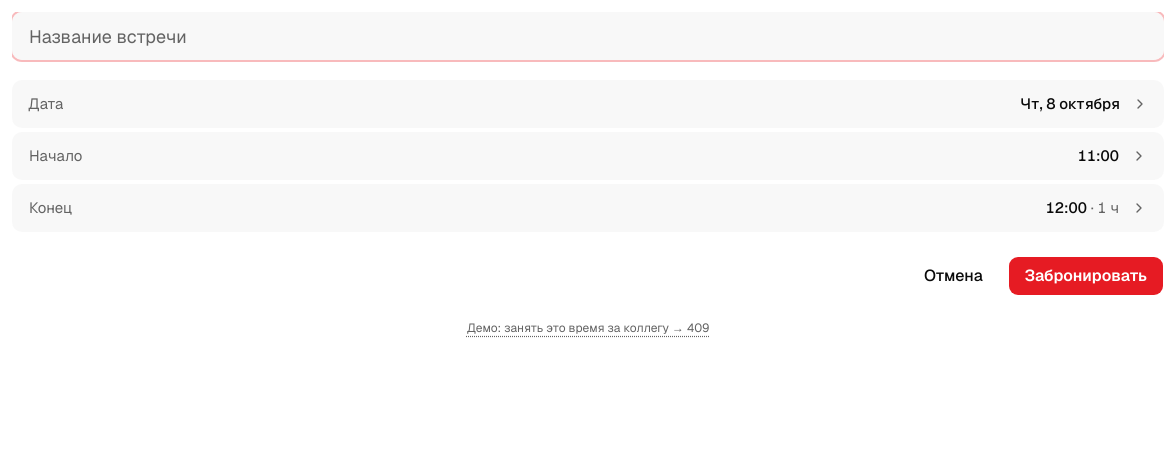
QuickBookingForm › keeps the title and suggests a free slot on 409
Expected: the button "Забронировать" is enabled, [1008,256,1164,296]
In the field labelled "Название": (588, 36) [12,12,1164,60], type "Ревью"
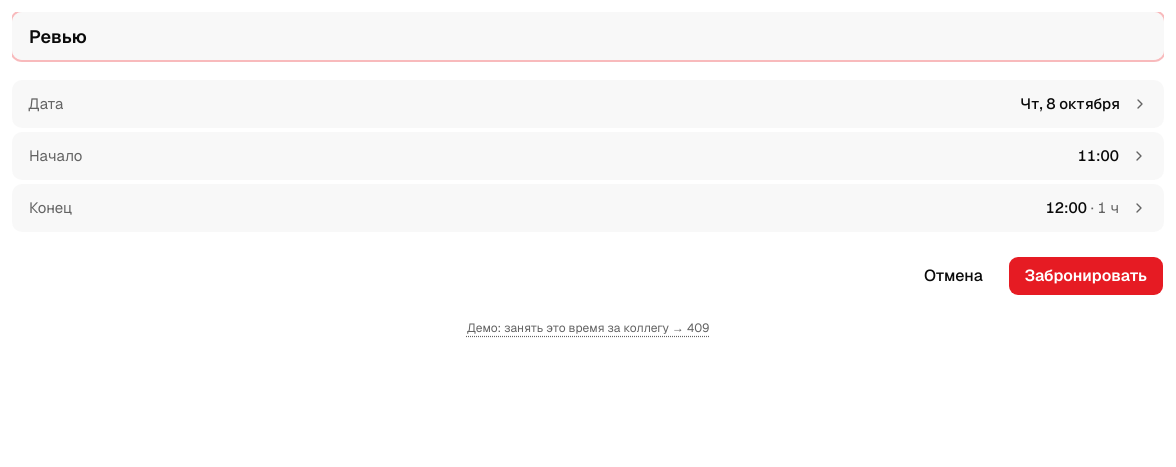
Click the button "Забронировать": (1086, 276) [1008,256,1164,296]
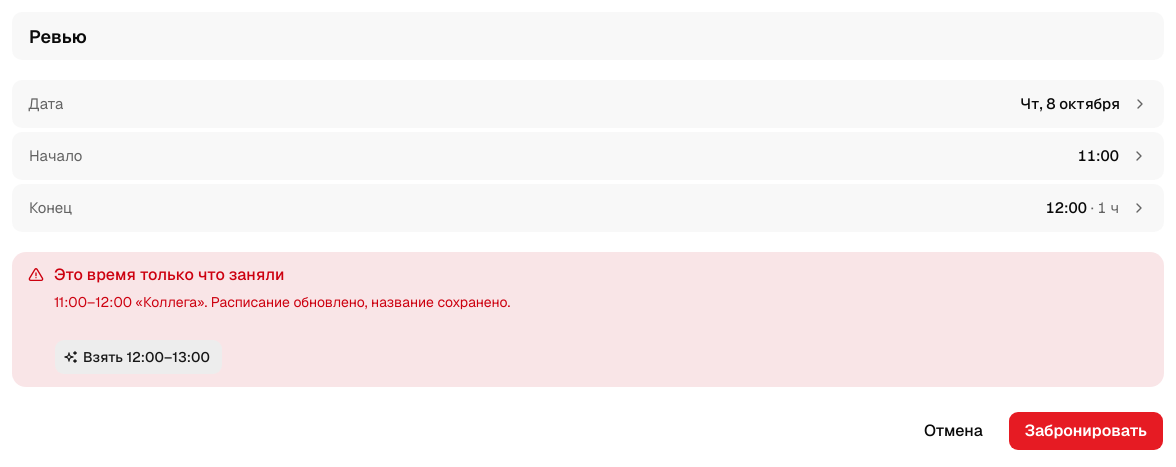
Result: the message shows "Это время только что заняли" at [54,264,284,285]
Result: the message shows "11:00–12:00 «Коллега»" at [54,293,204,311]
Click the button "Взять 12:00–13:00": (138, 357) [54,339,223,375]
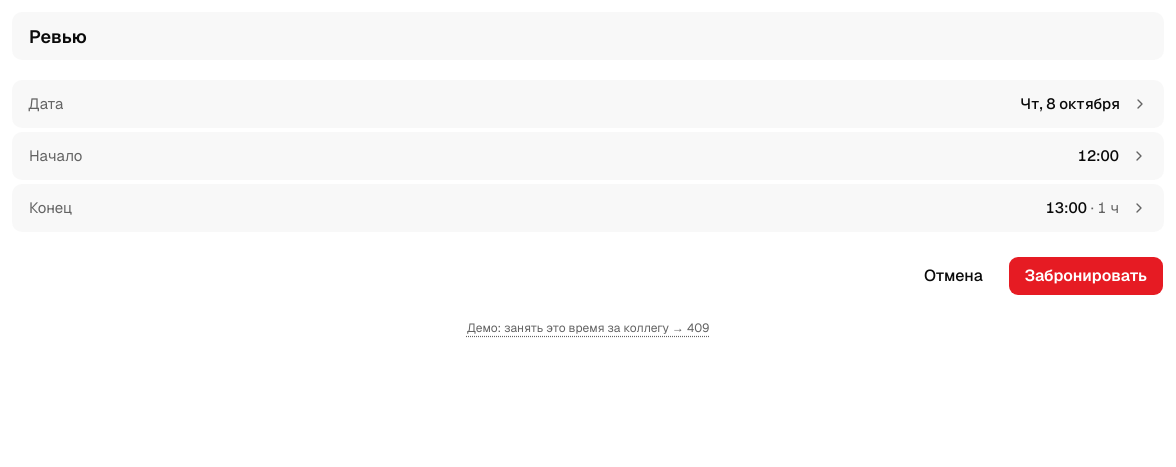
Result: the dropdown labelled "Начало" shows "12:00" at [12,132,1164,180]
Result: the dropdown labelled "Конец" shows "13:00" at [12,184,1164,232]
Result: the message is gone
